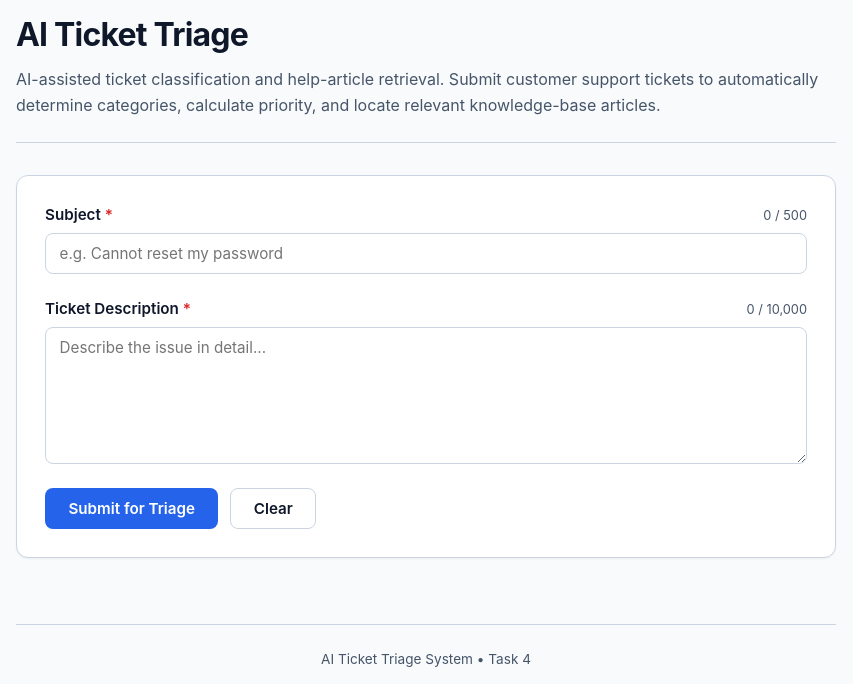
AI Ticket Triage Application › 4. renders category, priority, reply, and articles on successful triage
In the field labelled "Subject *": (426,254) [45,233,807,274], type "Cannot reset my password"
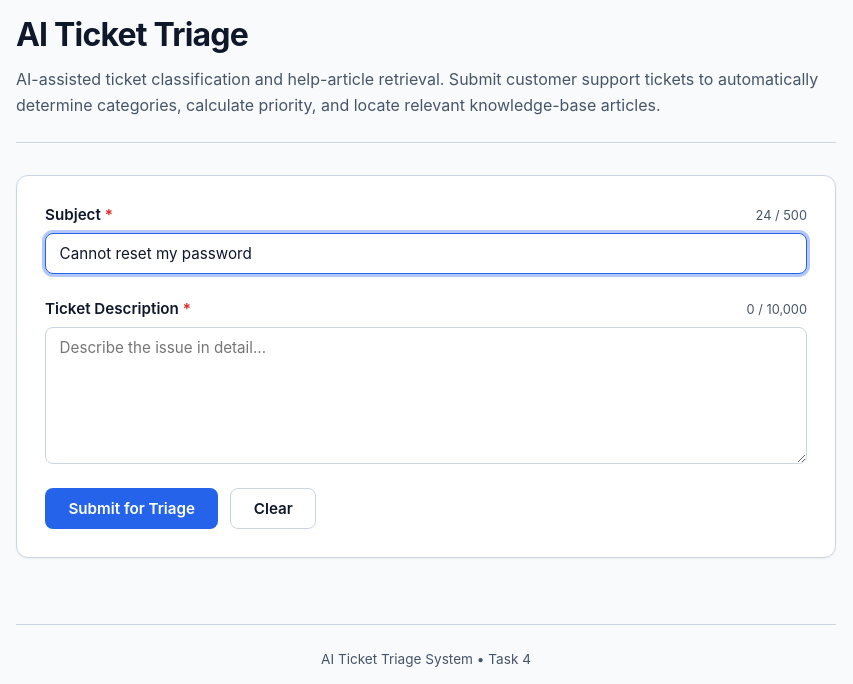
In the text box labelled "Ticket Description *": (426,395) [45,327,807,464], type "I have not received the password reset email."
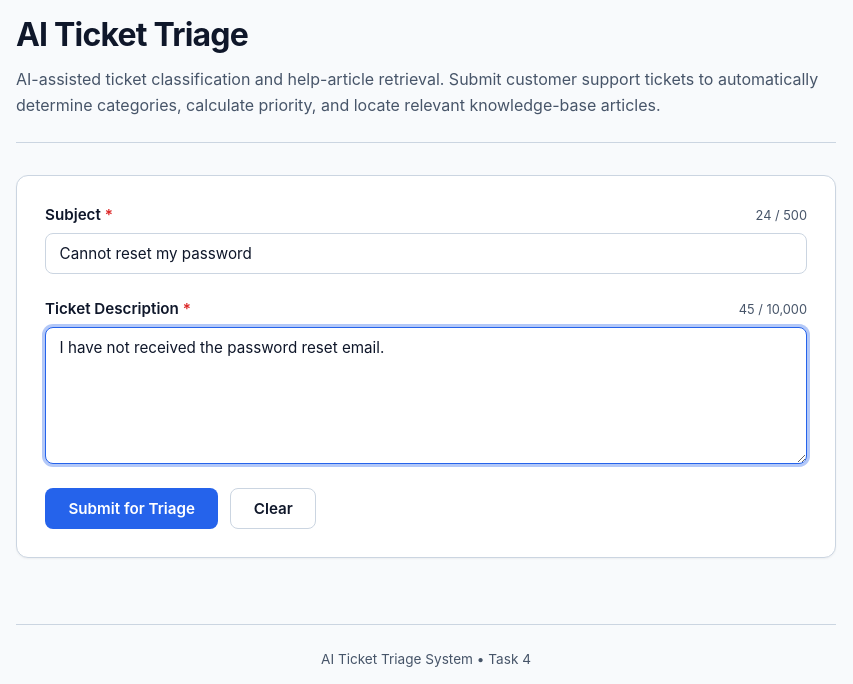
Click the button "Submit for Triage": (132,508) [45,488,218,529]
(page scrolled)
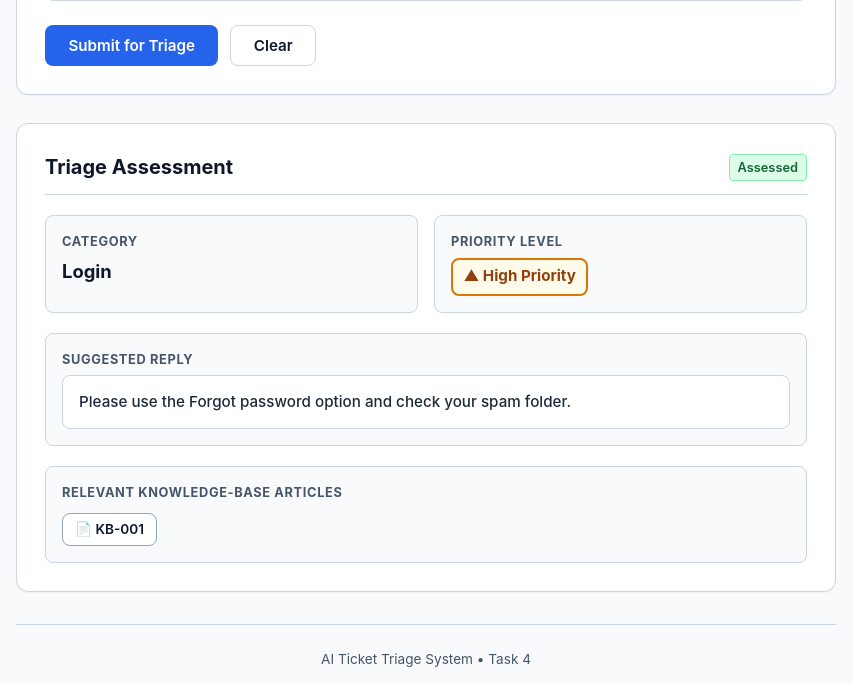
Expected: the text with test id "result-category" reads "Login", [62,260,112,282]
Expected: the element with test id "result-priority" shows "High", [463,266,576,286]
Expected: the text with test id "result-suggested-reply" reads "Please use the Forgot password option and check your spam folder.", [79,392,571,411]
